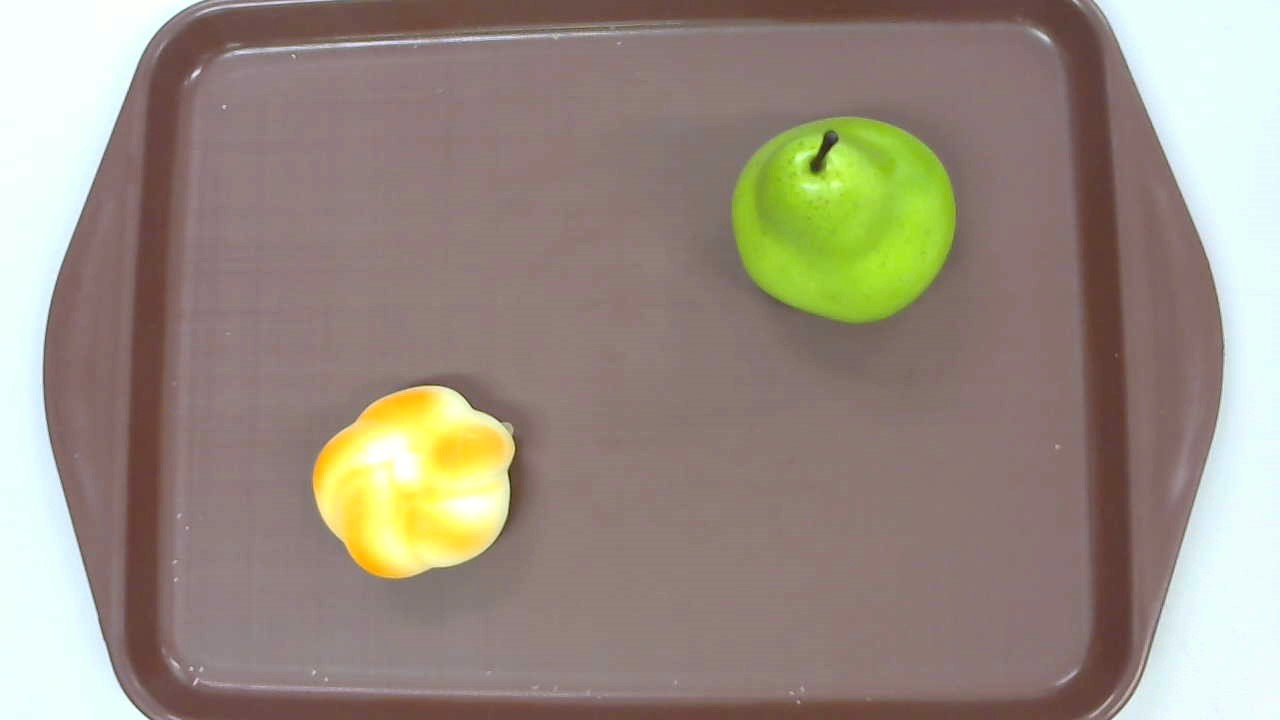green pear: (729, 116, 957, 324)
twist bread: (312, 384, 516, 578)
